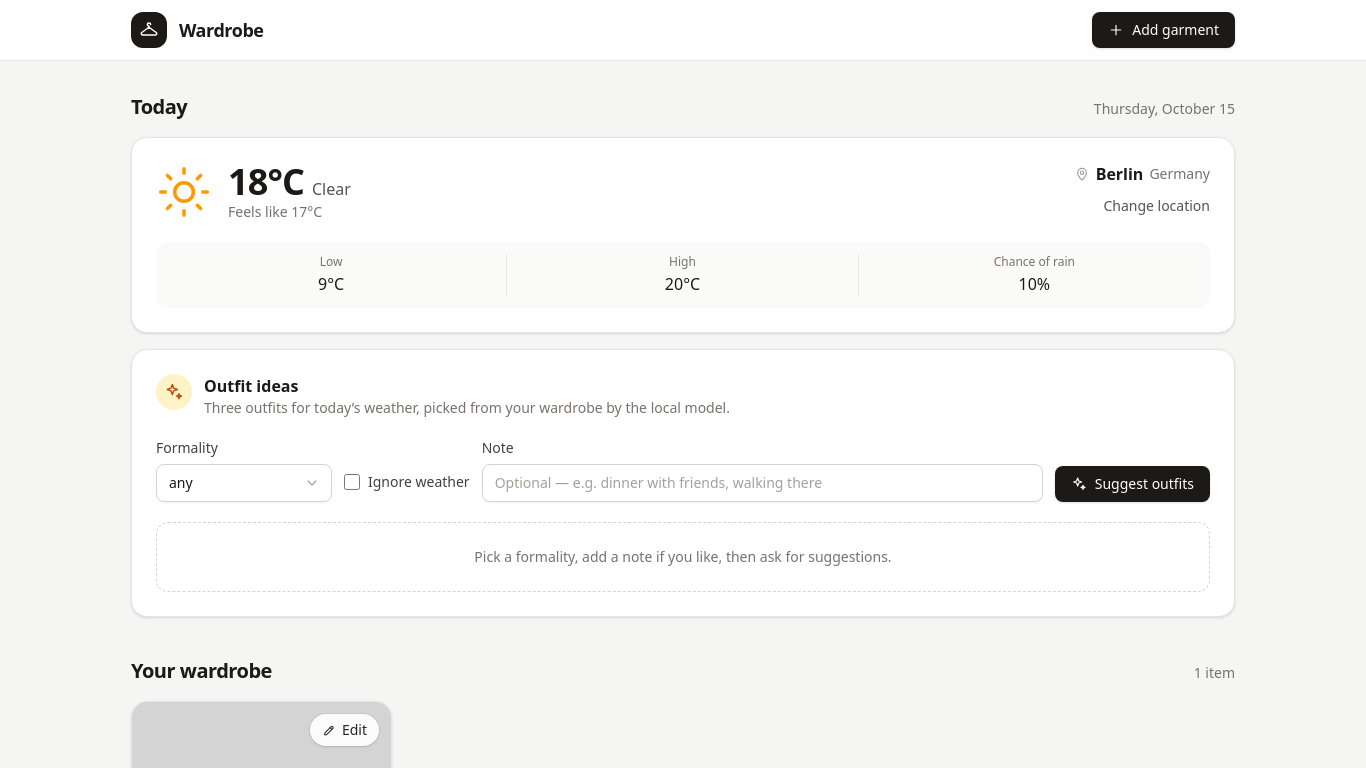
Scenario: add and edit dialogs › does not pop the edit dialog back open when it was closed while the item was loading
The width and height of the screenshot is (1366, 768).
Click the button "Edit" at coordinates (344, 730), box [310,714,379,746]
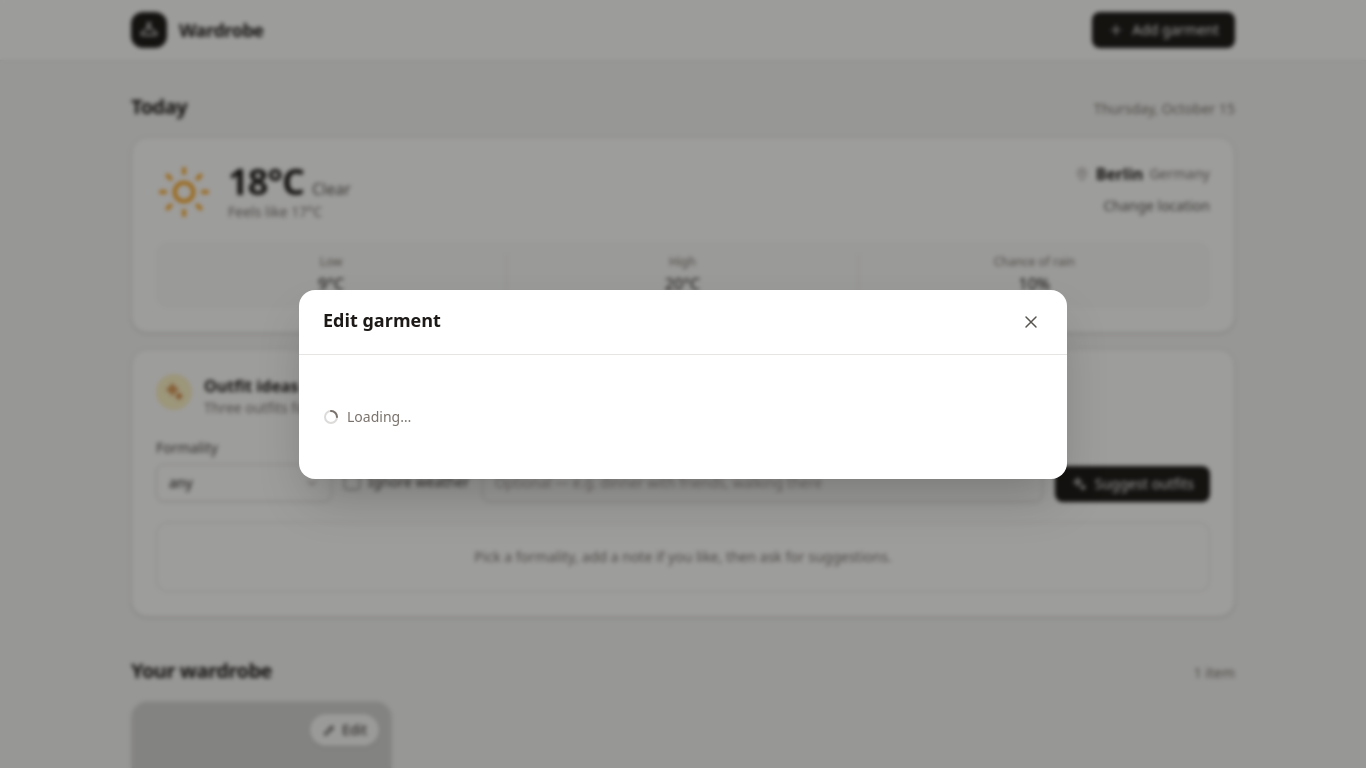
Click the button named "Close" at coordinates (1031, 322), box [1011,306,1051,338]
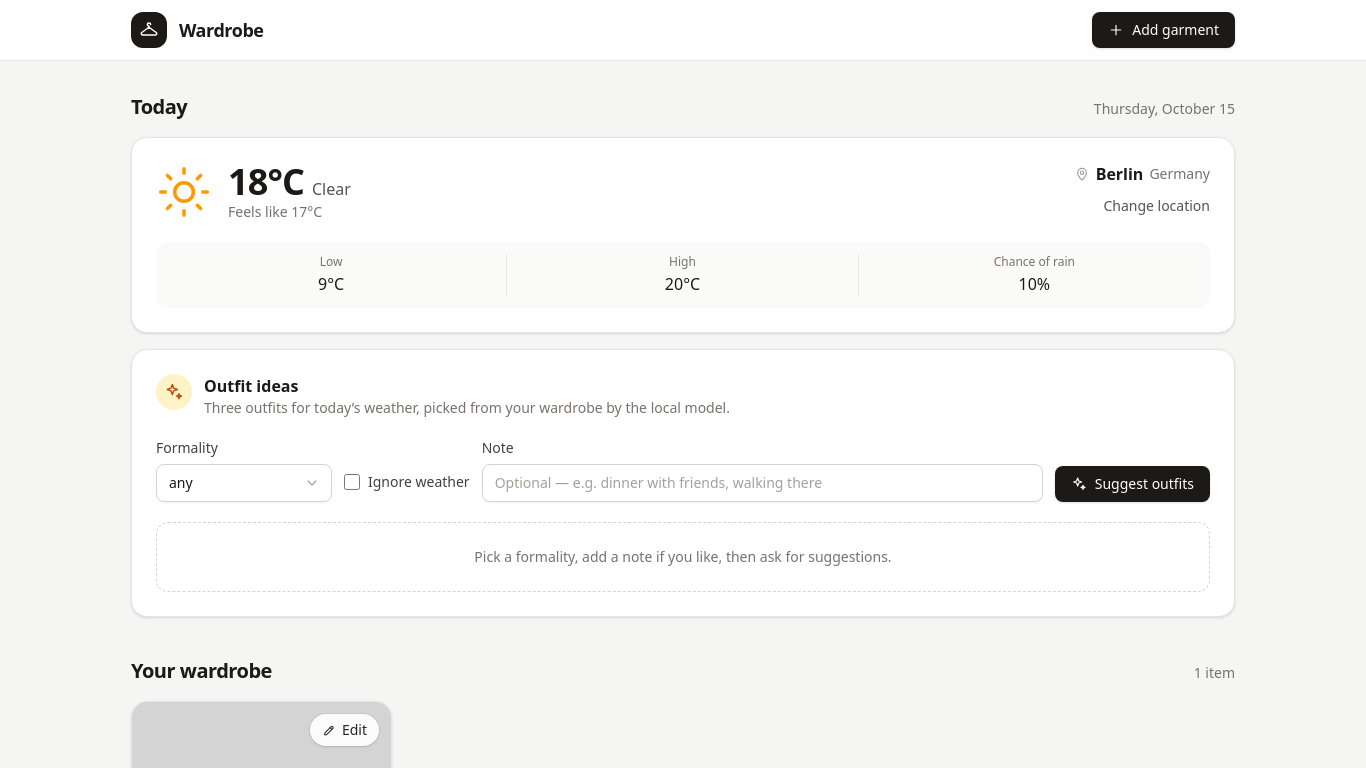
Expected: the dialog is gone
